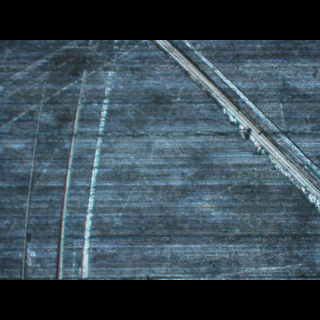d: (142, 40, 320, 212), (14, 50, 126, 279)
